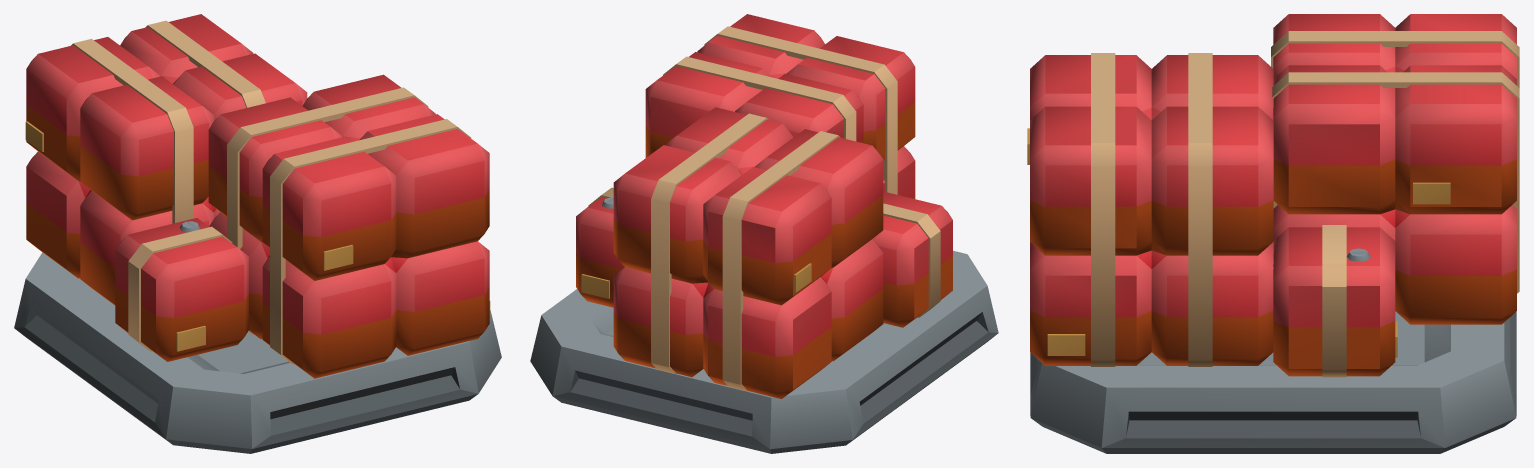
The model's file is mobile_base_cargo.gltf.
The picture shows the model from 3 angles, left to right: view 1: azimuth 30°, elevation 25°; view 2: azimuth 150°, elevation 25°; view 3: azimuth 270°, elevation 25°; orthographic projection. The views are drawn at different scales.
Parts seen in each view (by area): view 1: mobile_base_cargo; view 2: mobile_base_cargo; view 3: mobile_base_cargo.
Part boxes in pixels (x1=…): mobile_base_cargo: x1=14, y1=14, x2=501, y2=453; mobile_base_cargo: x1=530, y1=14, x2=998, y2=453; mobile_base_cargo: x1=1027, y1=14, x2=1519, y2=453.
Size of the model in its own units: 1.8 by 1.31 by 2.02.
1 material, 1 textured.
